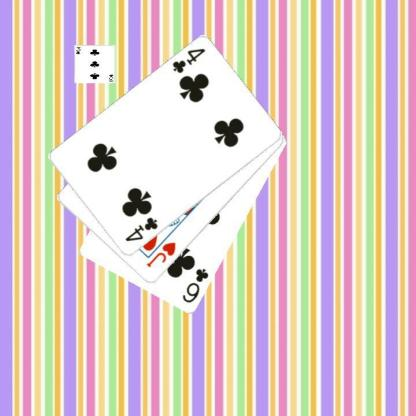4C: (122, 214, 160, 244), (169, 46, 207, 75)
6C: (180, 266, 210, 304)
JH: (144, 240, 177, 269)
